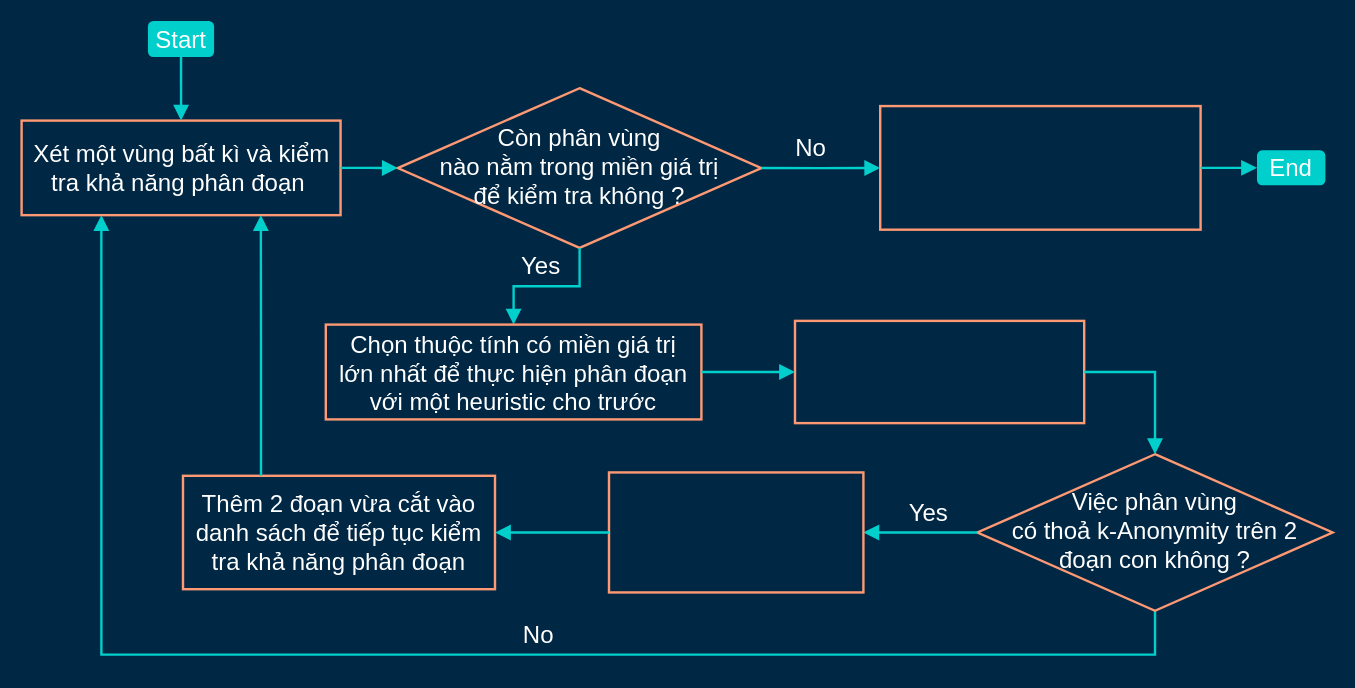
The diagram is 1355 pixels wide and 688 high, and some of its shapes have lost their labels. The centre of each missing label's shape, as x and y in pixels:
"Chọn giá trị để thực hiên phân đoạn, tuỳ vào chiến lược (vd chọn trung vị)" goes at point 939,371.
"Phân tách 2 đoạn trái phải dựa theo giá trị phân đoạn đã chọn" goes at point 735,532.
"Trả về bảng dữ liệu ẩn danh tương ứng với kết quả của quá trình đệ qui phân đoạn" goes at point 1039,167.
